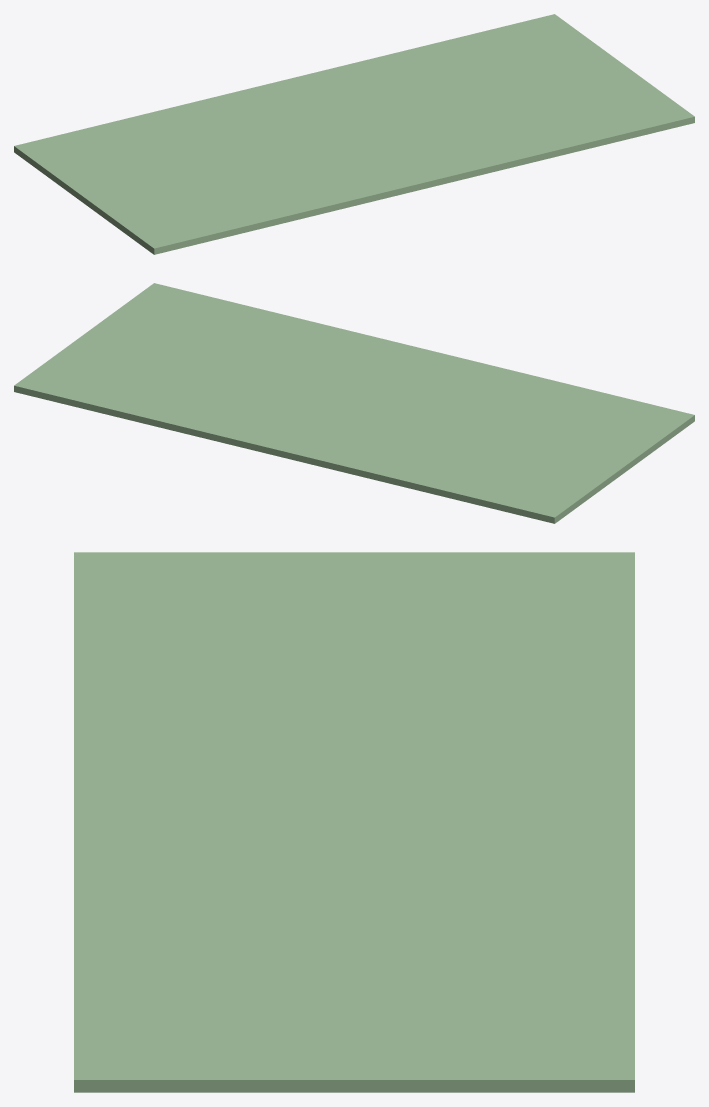
The model's file is storeroof.fbx.
3 renders of one model, top to bottom at view 1: azimuth 30°, elevation 25°; view 2: azimuth 150°, elevation 25°; view 3: azimuth 270°, elevation 25°, orthographic. The views are drawn at different scales.
Visible parts, largest first — view 1: Store Roof; view 2: Store Roof; view 3: Store Roof.
Part boxes in pixels (x1,y1,x2,y2): Store Roof: [14, 14, 694, 254]; Store Roof: [14, 283, 694, 523]; Store Roof: [74, 552, 634, 1092].
Bounding box in the file's own units: 3564 × 40 × 1600.
